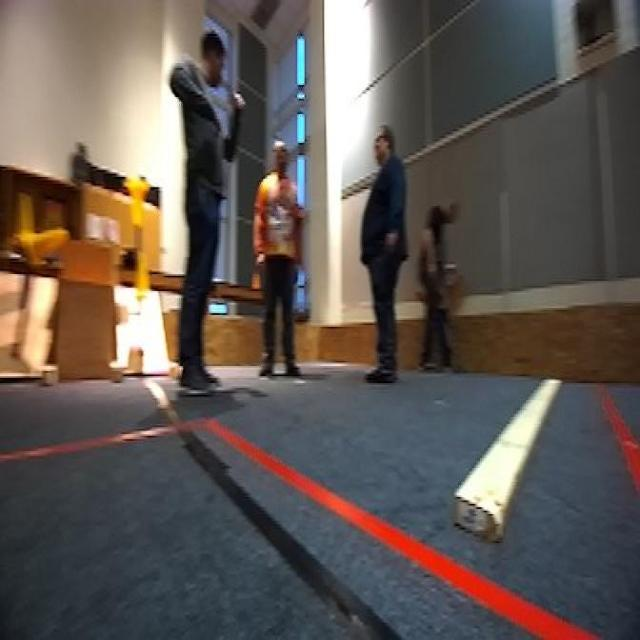frc_cone: (20, 222, 67, 272), (124, 177, 150, 226), (16, 189, 34, 247), (132, 252, 150, 305)
